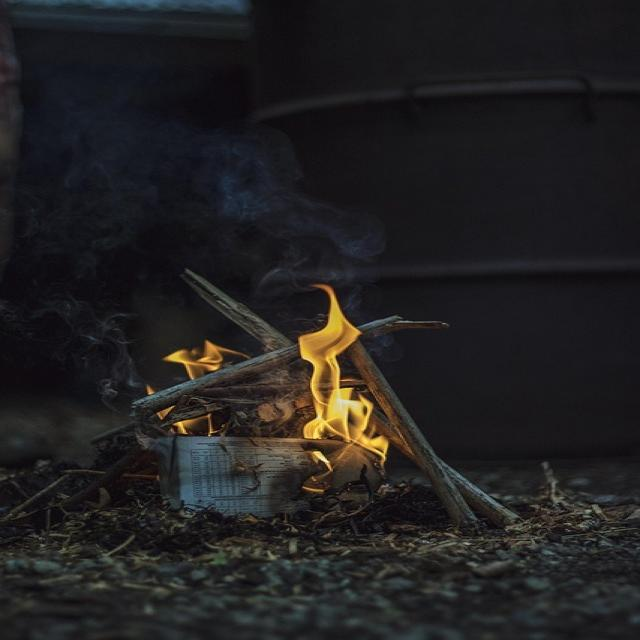smoke: (68, 102, 420, 279)
